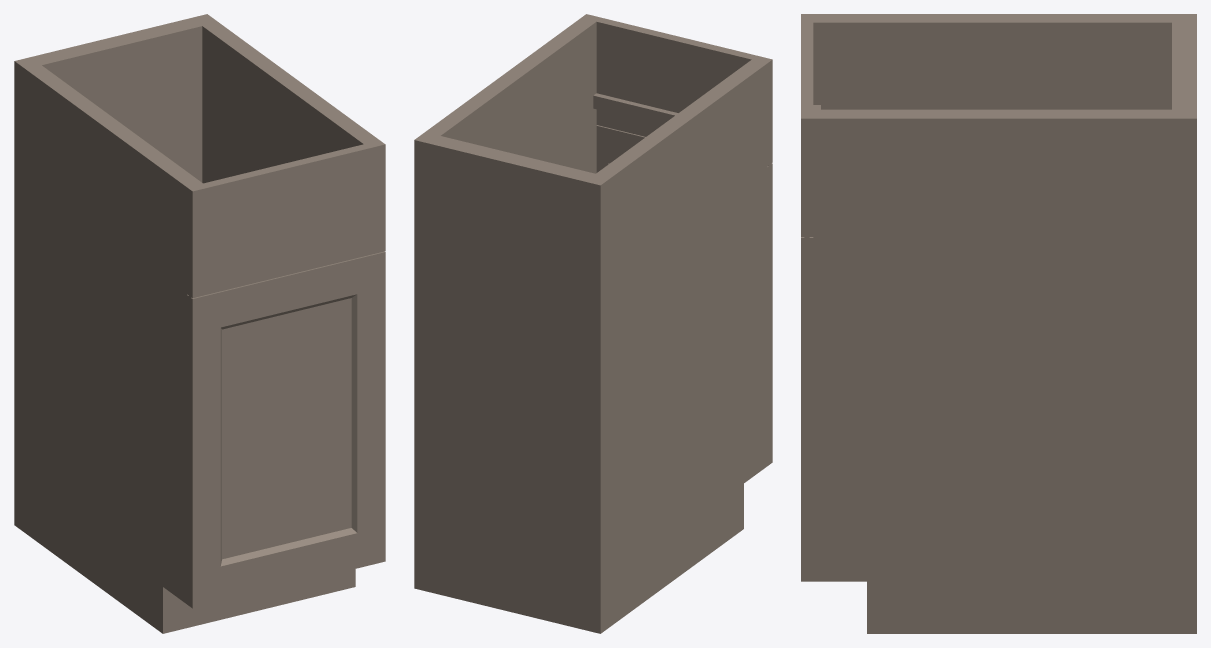
Rendered from Base-Cabinet-Wastebasket-24-Deep_std_001_W15in_1D.glb.
3 renders of one model, left to right at view 1: azimuth 30°, elevation 25°; view 2: azimuth 150°, elevation 25°; view 3: azimuth 270°, elevation 25°, orthographic. The views are drawn at different scales.
Visible parts, largest first — view 1: Base-Cabinet-Wastebasket-24-Deep.std.001_W15in_1D; view 2: Base-Cabinet-Wastebasket-24-Deep.std.001_W15in_1D; view 3: Base-Cabinet-Wastebasket-24-Deep.std.001_W15in_1D.
Boxes of the visible parts, <box> form: Base-Cabinet-Wastebasket-24-Deep.std.001_W15in_1D: <box>14,14,385,633</box>; Base-Cabinet-Wastebasket-24-Deep.std.001_W15in_1D: <box>414,14,772,633</box>; Base-Cabinet-Wastebasket-24-Deep.std.001_W15in_1D: <box>801,14,1196,633</box>.
Size of the model in its own units: 0.381 by 0.8763 by 0.6096.
